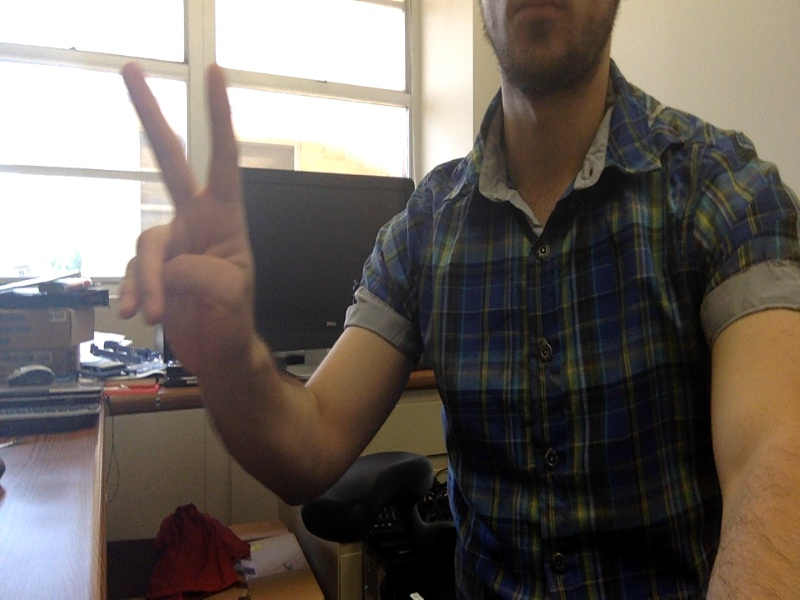2-hand: (115, 62, 266, 364)
